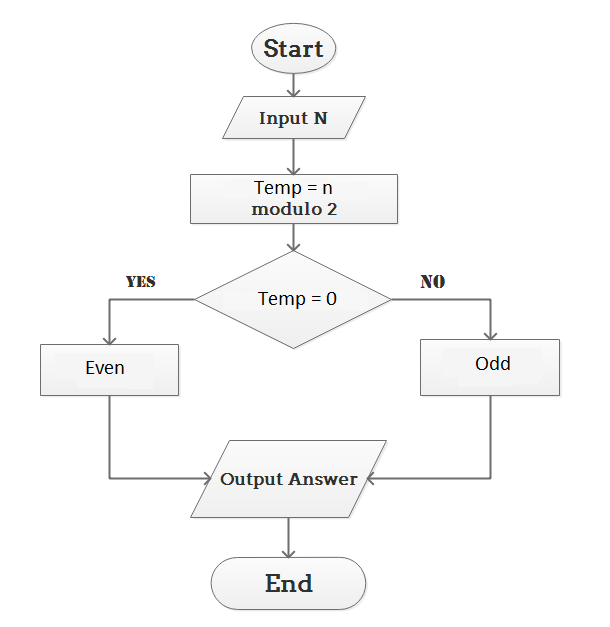arrow: (366, 400, 495, 485), (105, 398, 209, 485), (388, 296, 496, 339), (104, 295, 191, 345), (281, 518, 296, 557), (287, 139, 302, 173), (286, 223, 301, 248), (286, 74, 300, 95)
data: (190, 437, 388, 518), (222, 96, 366, 141)
decision: (193, 250, 390, 349)
process: (188, 172, 399, 226), (417, 337, 561, 398), (38, 343, 180, 399)
terminator: (209, 555, 369, 612), (251, 23, 337, 75)
text: (250, 178, 339, 219), (217, 470, 359, 488), (263, 36, 324, 62), (258, 288, 337, 307), (256, 108, 329, 128), (264, 570, 313, 594), (83, 357, 126, 380), (474, 353, 512, 374), (125, 273, 157, 290), (416, 272, 446, 290)
